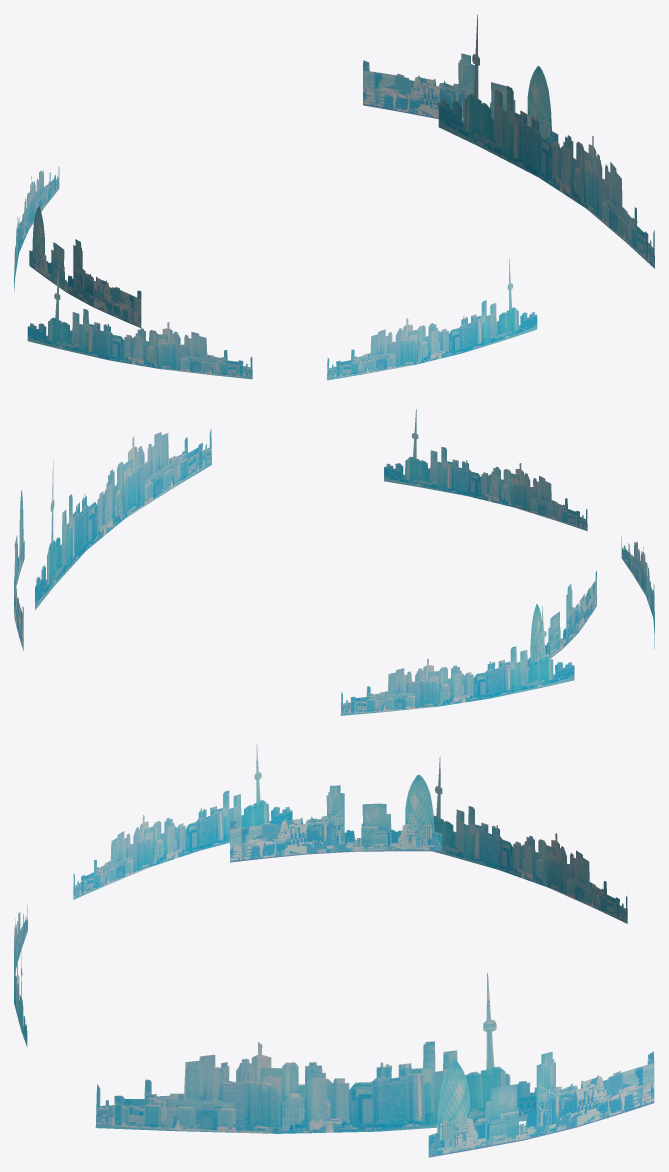
The model's file is Scene_Garage03_FarBuilding01.fbx.
3 renders of one model, top to bottom at view 1: azimuth 30°, elevation 25°; view 2: azimuth 150°, elevation 25°; view 3: azimuth 270°, elevation 25°, orthographic. The views are drawn at different scales.
Parts seen in each view (by area): view 1: Scene_Garage03_FarBuilding01A, Scene_Garage03_FarBuilding01B; view 2: Scene_Garage03_FarBuilding01A, Scene_Garage03_FarBuilding01B; view 3: Scene_Garage03_FarBuilding01A, Scene_Garage03_FarBuilding01B.
Part boxes in pixels (x1=…): Scene_Garage03_FarBuilding01A: x1=14, y1=14, x2=654, y2=380; Scene_Garage03_FarBuilding01B: x1=29, y1=53, x2=558, y2=327; Scene_Garage03_FarBuilding01A: x1=35, y1=409, x2=654, y2=715; Scene_Garage03_FarBuilding01B: x1=14, y1=490, x2=596, y2=668; Scene_Garage03_FarBuilding01A: x1=14, y1=744, x2=627, y2=1133; Scene_Garage03_FarBuilding01B: x1=230, y1=774, x2=654, y2=1157.
Size of the model in its own units: 21355 by 4644 by 17485.
